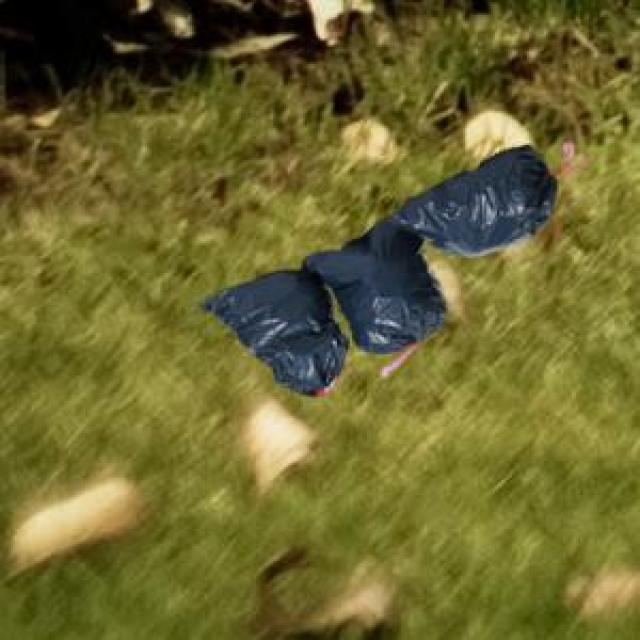Trashbag: (333, 219, 447, 365), (208, 274, 346, 391), (412, 157, 562, 249)
